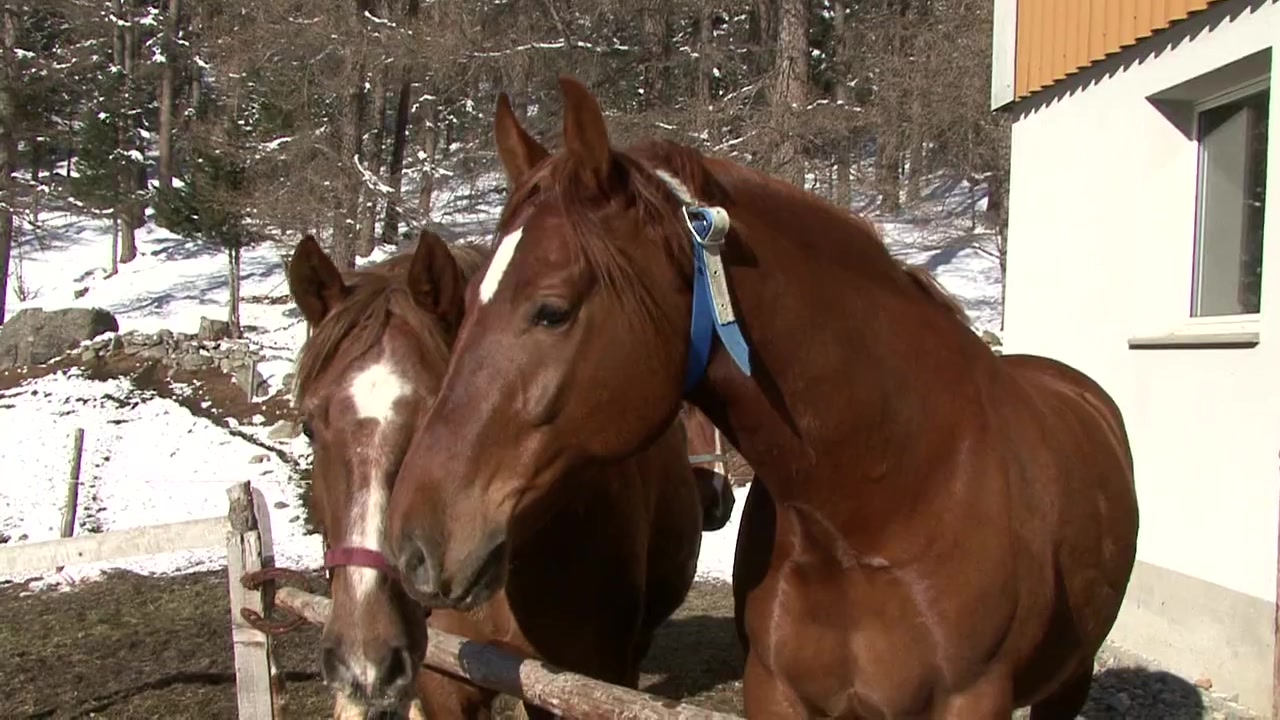horse: (382, 73, 1144, 719)
